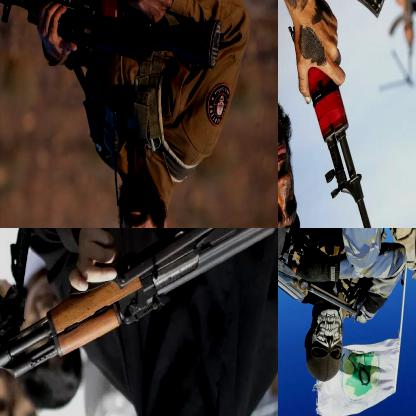rifle: (0, 228, 277, 415), (296, 0, 383, 227), (0, 0, 224, 72), (278, 228, 369, 324)
